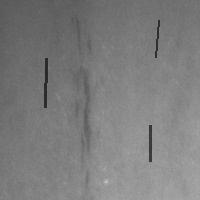inclusion: (67, 59, 97, 184), (72, 12, 94, 62), (153, 18, 160, 59), (43, 56, 48, 109), (148, 123, 152, 163)
